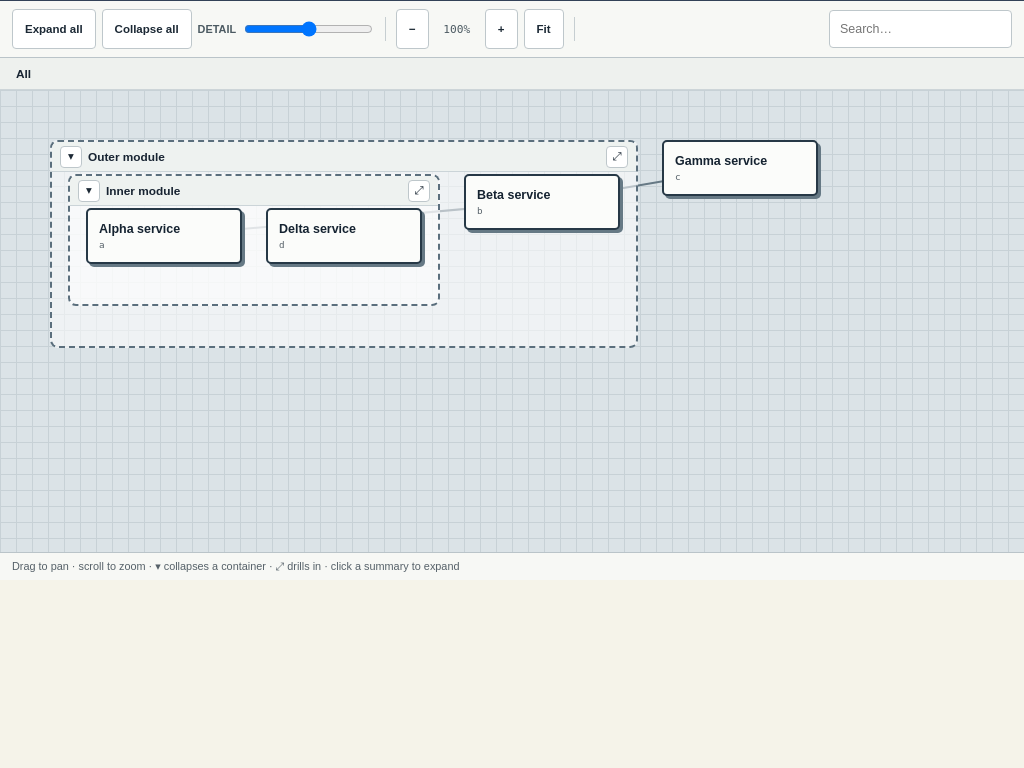
ExplorerSurface › drills into a container and lets the breadcrumb navigate back out
Click the button named "Drill into Outer module".
click(617, 156)  # box [606,146,628,168]
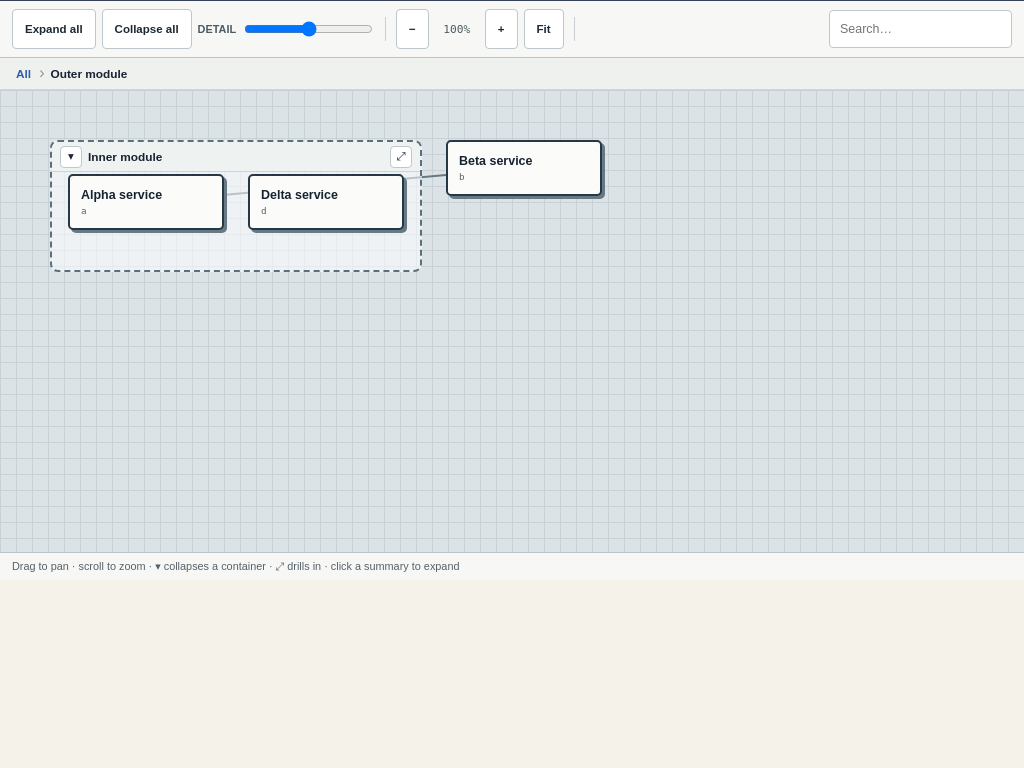
Now the button "Gamma service" is gone
Click the button "All".
click(24, 74)  # box [12,65,35,83]
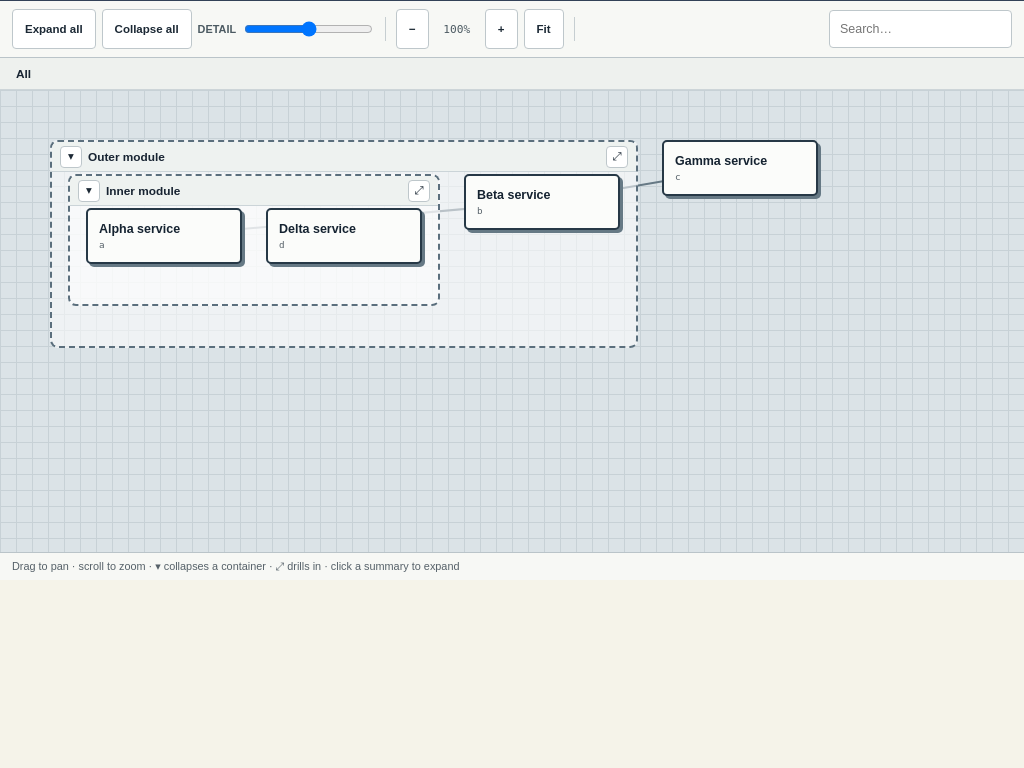
Now the text "Gamma service" is shown, box [675,154,767,168]
